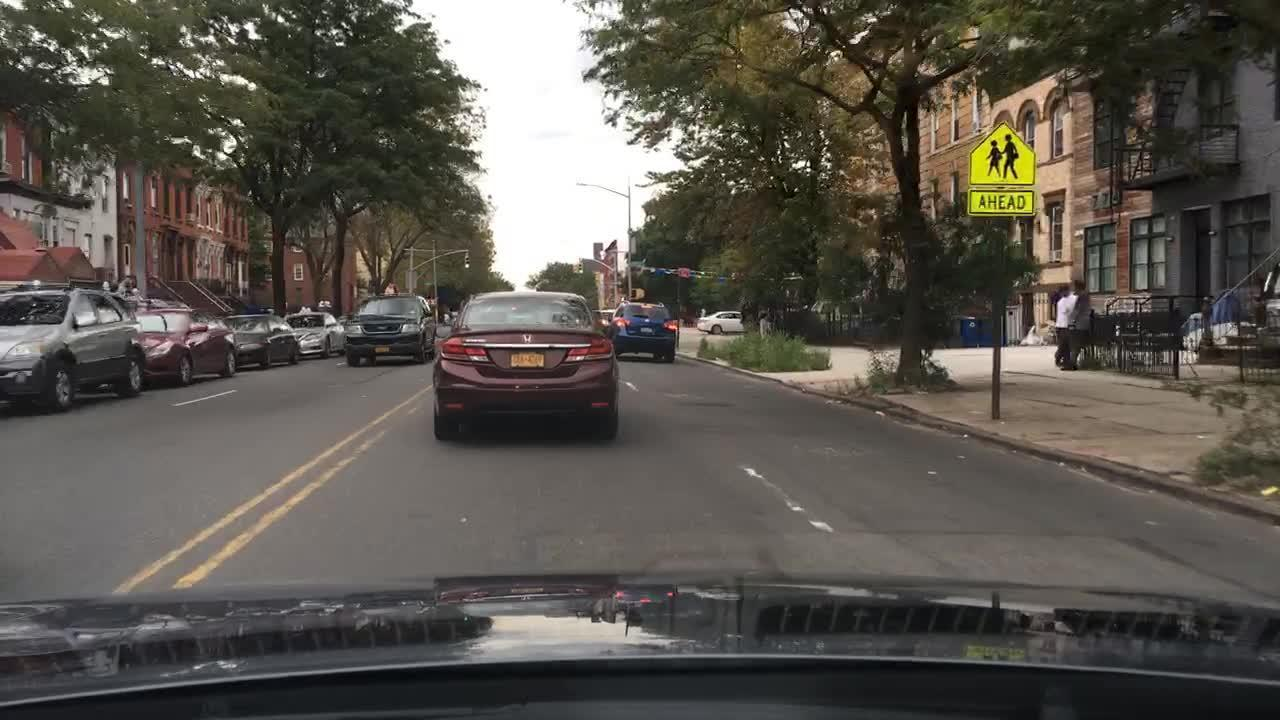Honda: (518, 330, 536, 348)
